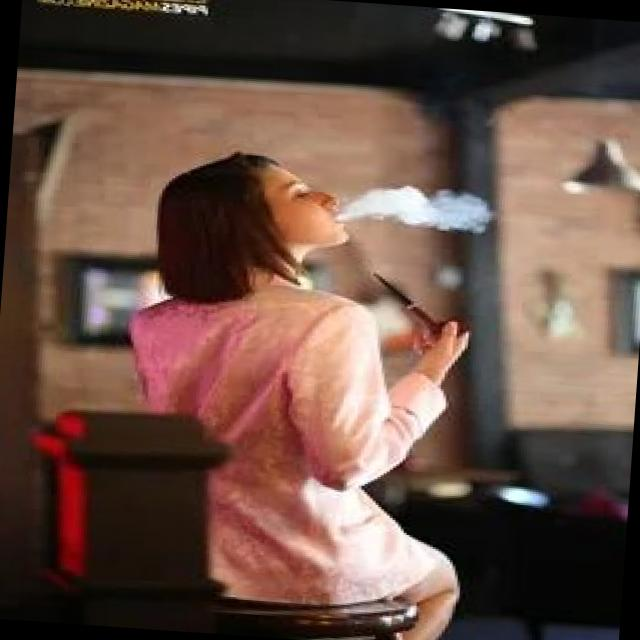cigarette: (362, 269, 472, 346)
